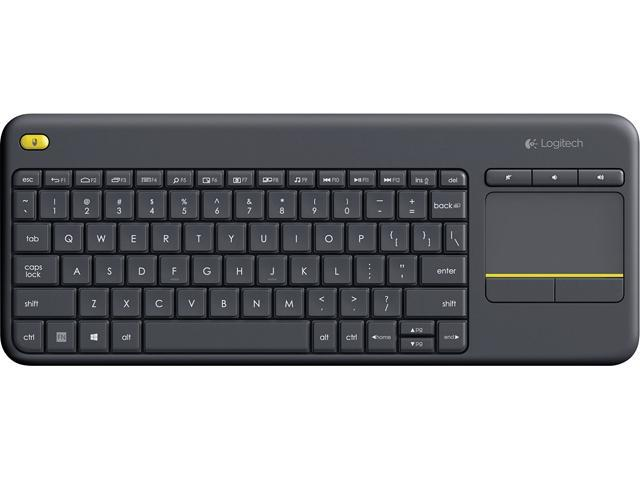logitech-keyboard-k400: (1, 110, 634, 364)
